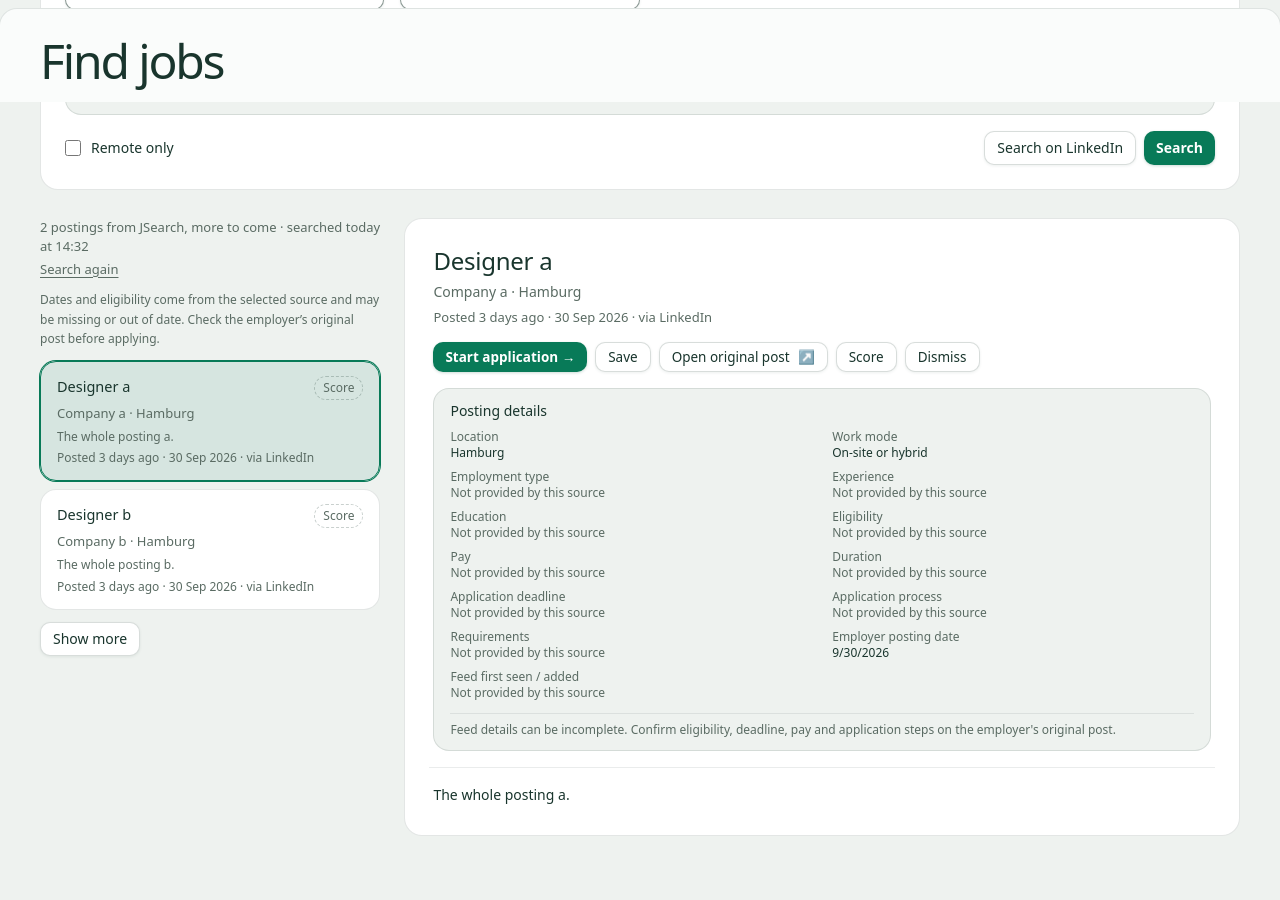
Test: the results › loads the next page into the kept search, once each
(page scrolled)
Click the button "Show more".
click(90, 639)  # box [40, 622, 140, 656]
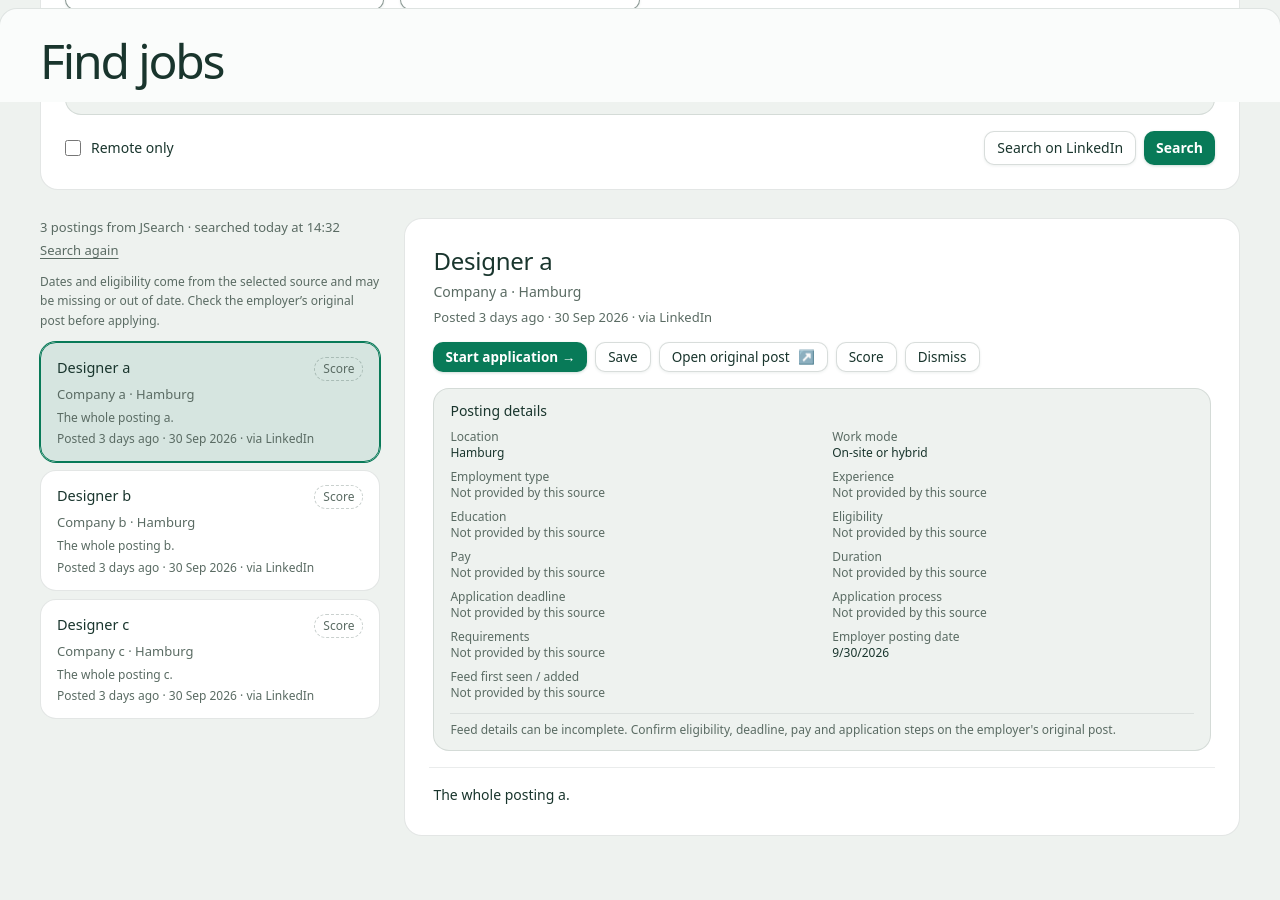
Expected: the number of list items is 3, [40, 342, 380, 462]; [40, 470, 380, 591]; [40, 599, 380, 719]
Expected: the button "Show more" is gone
